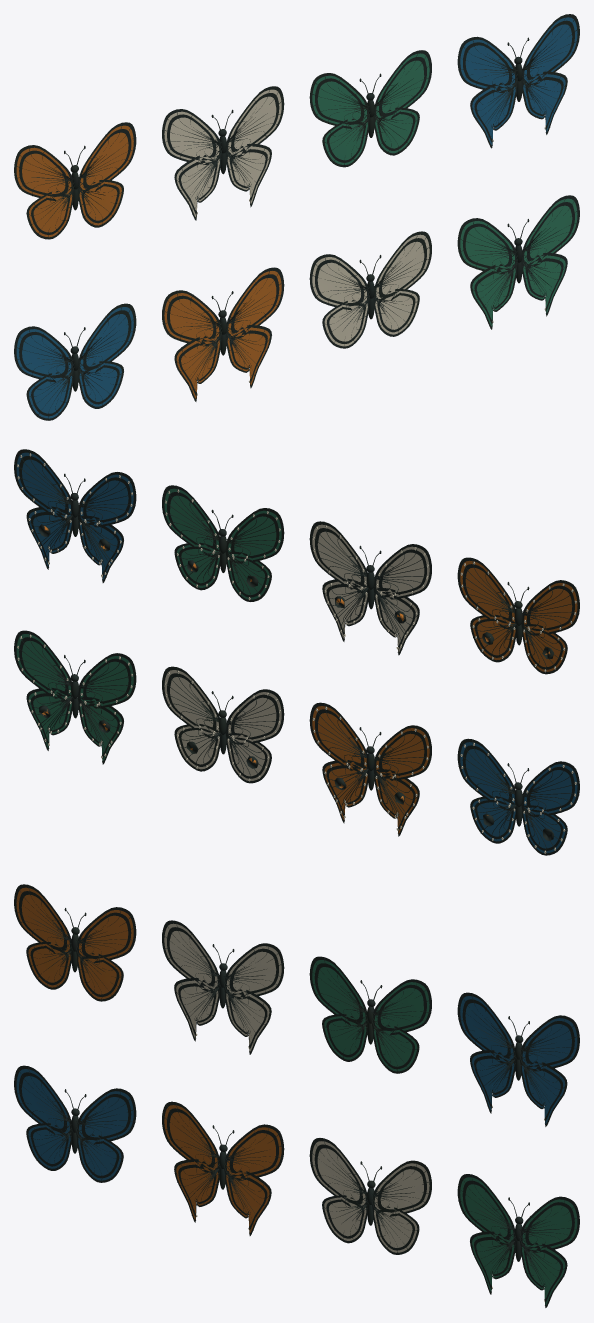
3 renders of one model, top to bottom at view 1: azimuth 30°, elevation 25°; view 2: azimuth 150°, elevation 25°; view 3: azimuth 330°, elevation 25°, orthographic.
Visible parts, largest first — view 1: B01_SPEC_Chitin_export; view 2: B01_SPEC_Chitin_export; view 3: B01_SPEC_Chitin_export.
Part boxes in pixels (x1,y1,x2,y2): B01_SPEC_Chitin_export: (14,14,579,420); B01_SPEC_Chitin_export: (14,449,579,855); B01_SPEC_Chitin_export: (14,884,579,1307).
Size of the model in its own units: 2.68 by 1.35 by 0.0389.
